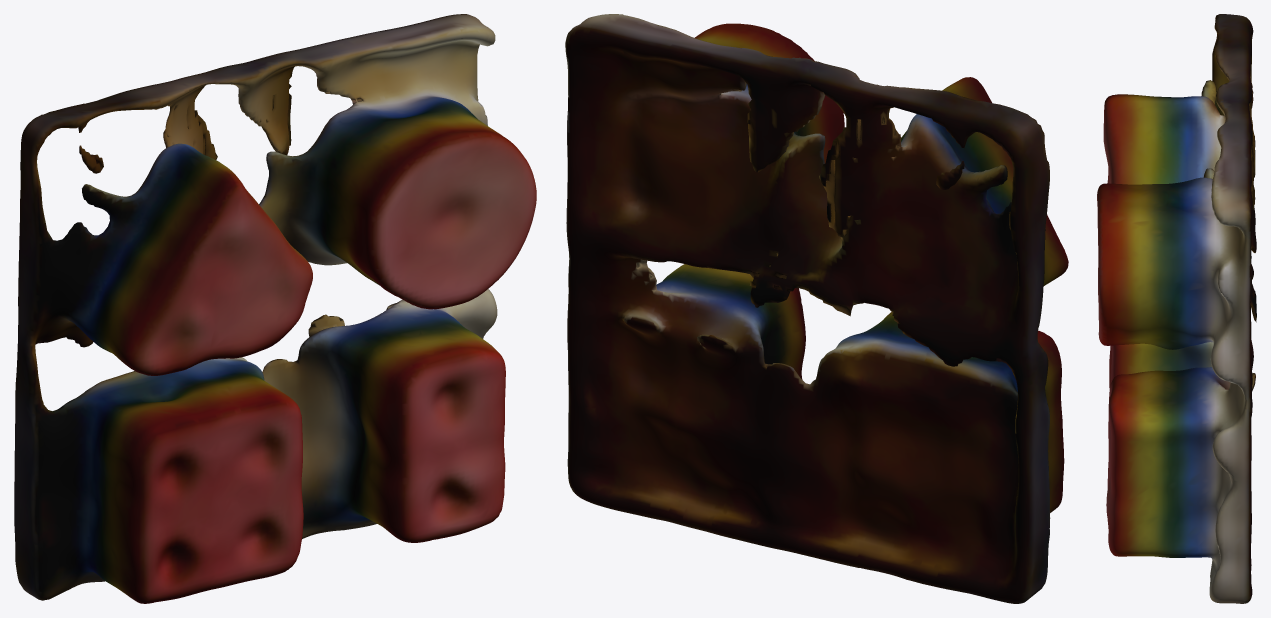
File: sorting_board.glb
3 renders of one model, left to right at view 1: azimuth 30°, elevation 25°; view 2: azimuth 150°, elevation 25°; view 3: azimuth 270°, elevation 25°, orthographic. The views are drawn at different scales.
Bounding box in the file's own units: 0.9992 × 0.9857 × 0.3432.
